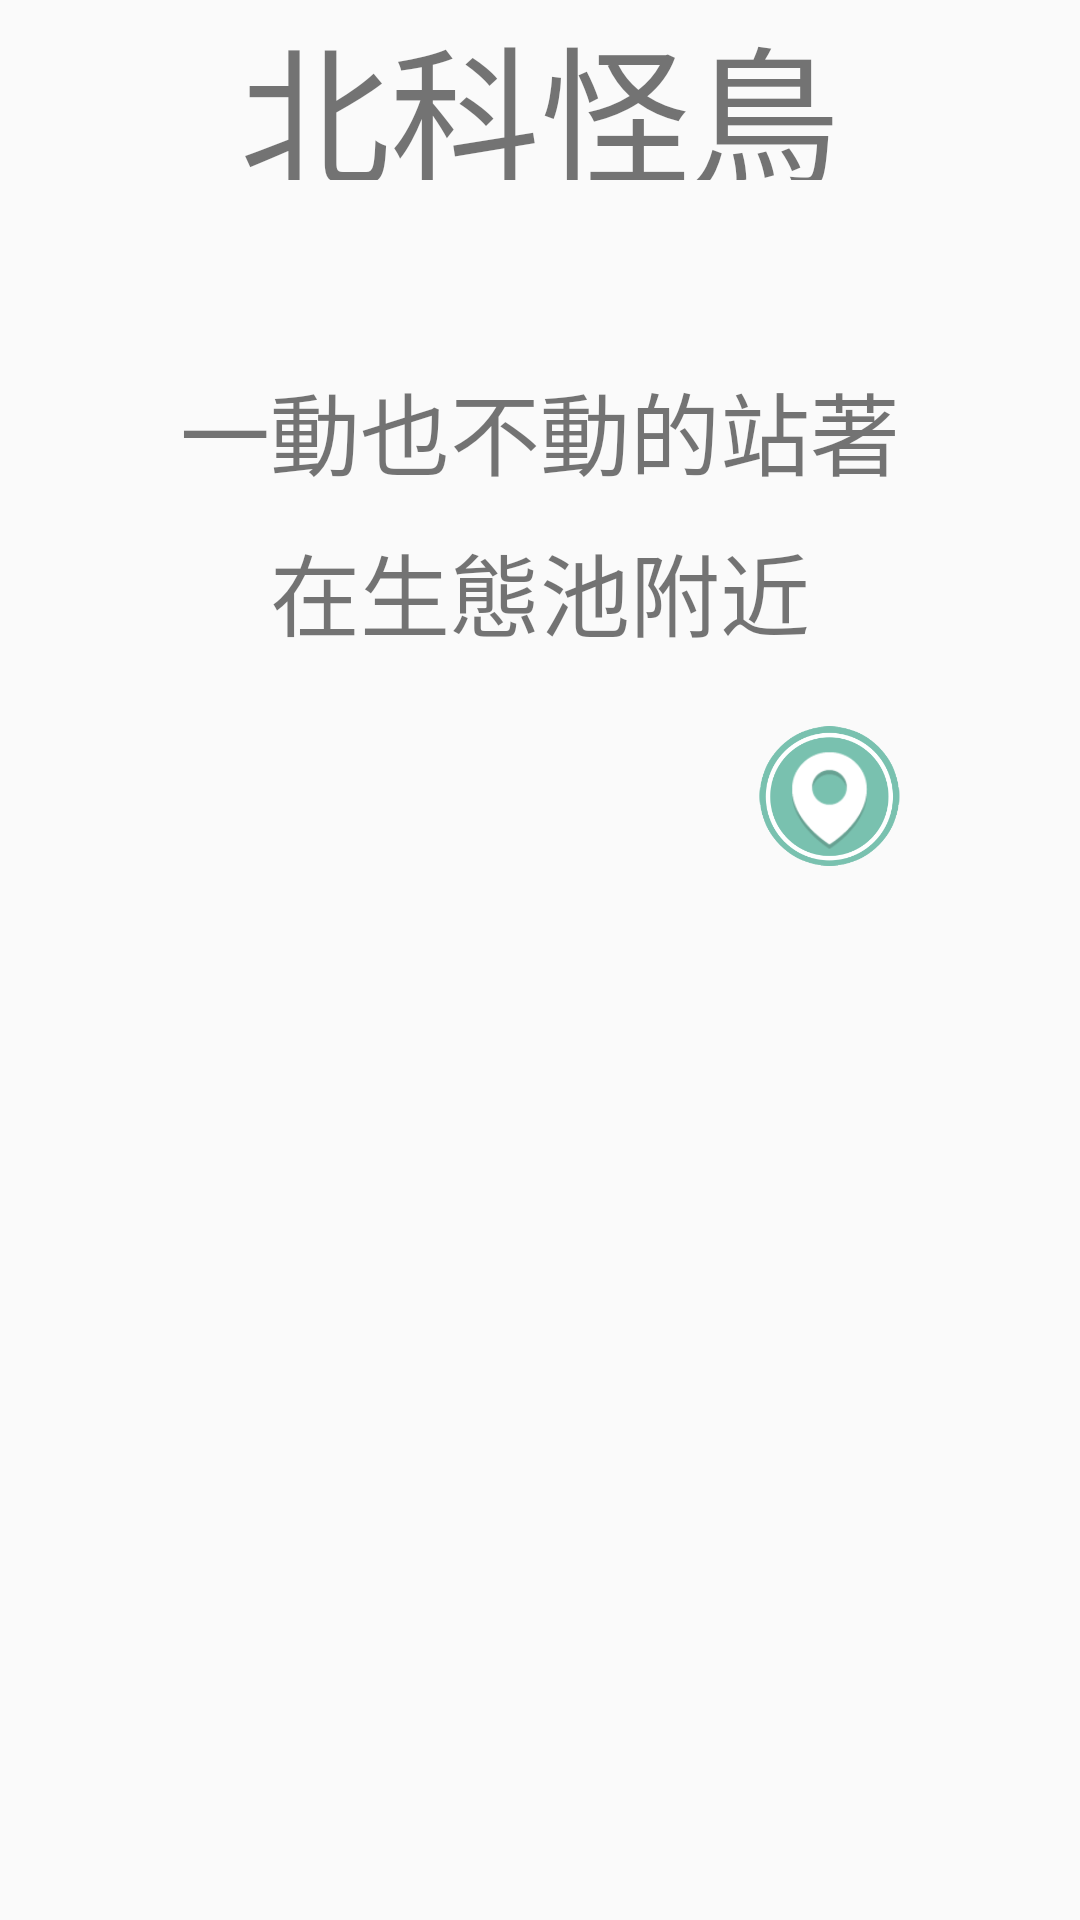

Icons on this 1080px×1920px Android screen, each with the point to tap as (x=x, y=y):
location: (x=829, y=796)
